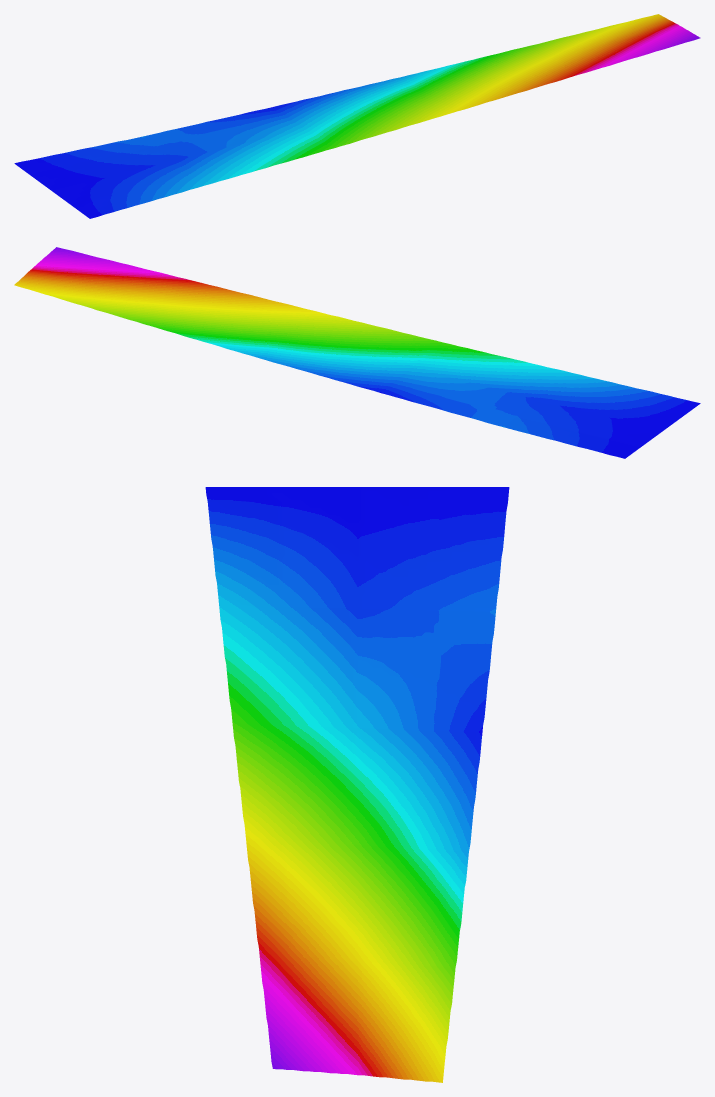
The picture shows the model from 3 angles, top to bottom: view 1: azimuth 30°, elevation 25°; view 2: azimuth 150°, elevation 25°; view 3: azimuth 270°, elevation 25°; orthographic projection. The views are drawn at different scales.
Parts seen in each view (by area): view 1: Elements; view 2: Elements; view 3: Elements.
Boxes of the visible parts, x1,y1,x2,y2 form: Elements: (14,14,700,218); Elements: (14,247,700,458); Elements: (205,487,509,1082).
Bounding box in the file's own units: 1 × 0.0254 × 0.2096.
1 material, 1 textured.
